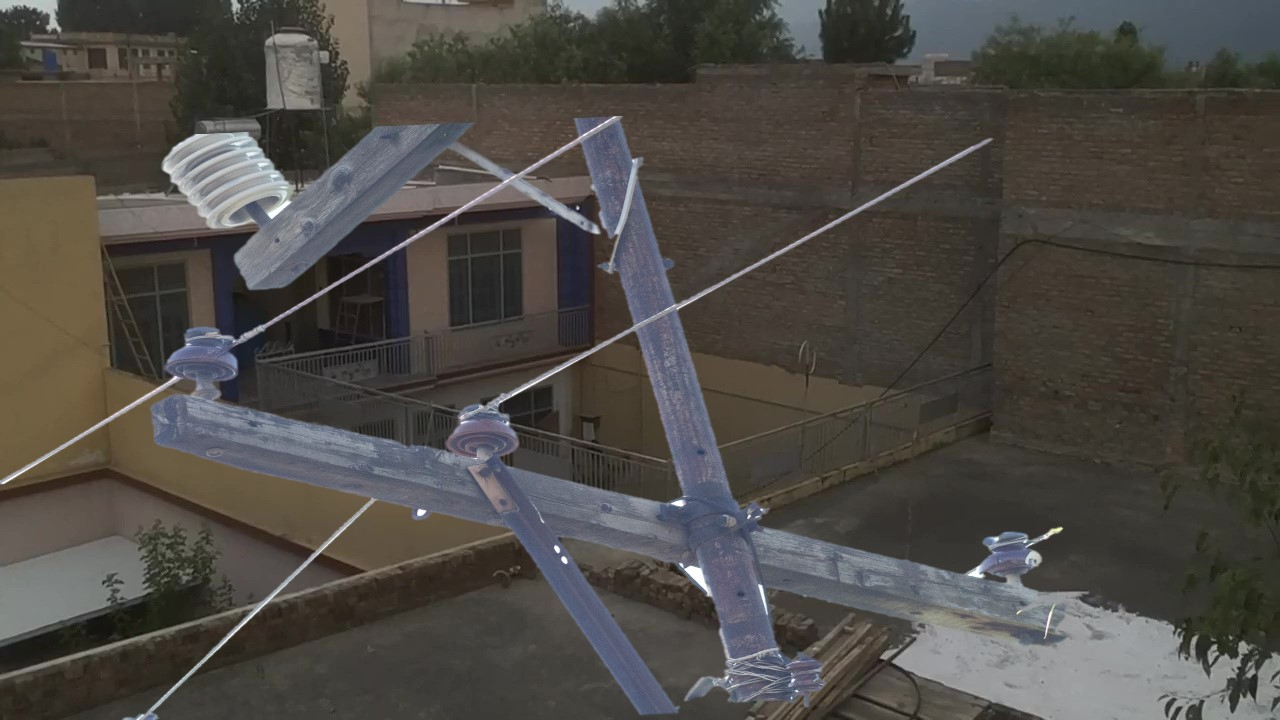defect_pin: (970, 513, 1049, 582)
insulator_pin: (159, 315, 247, 393), (436, 397, 529, 467)
